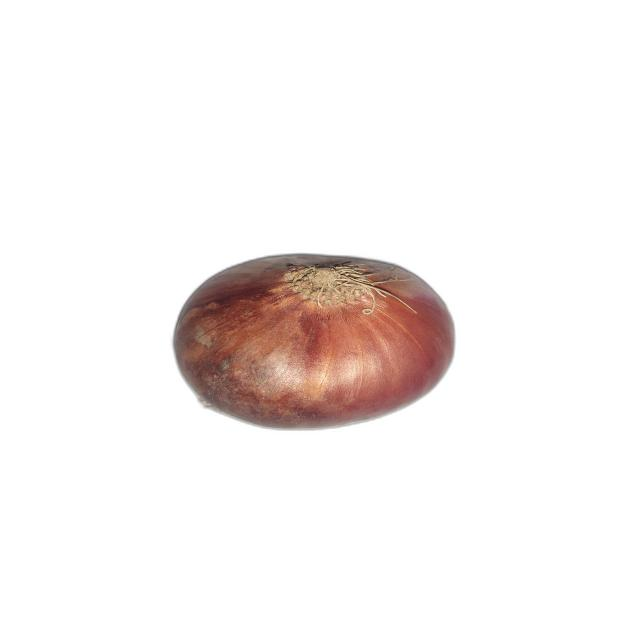onion: (174, 254, 456, 429)
